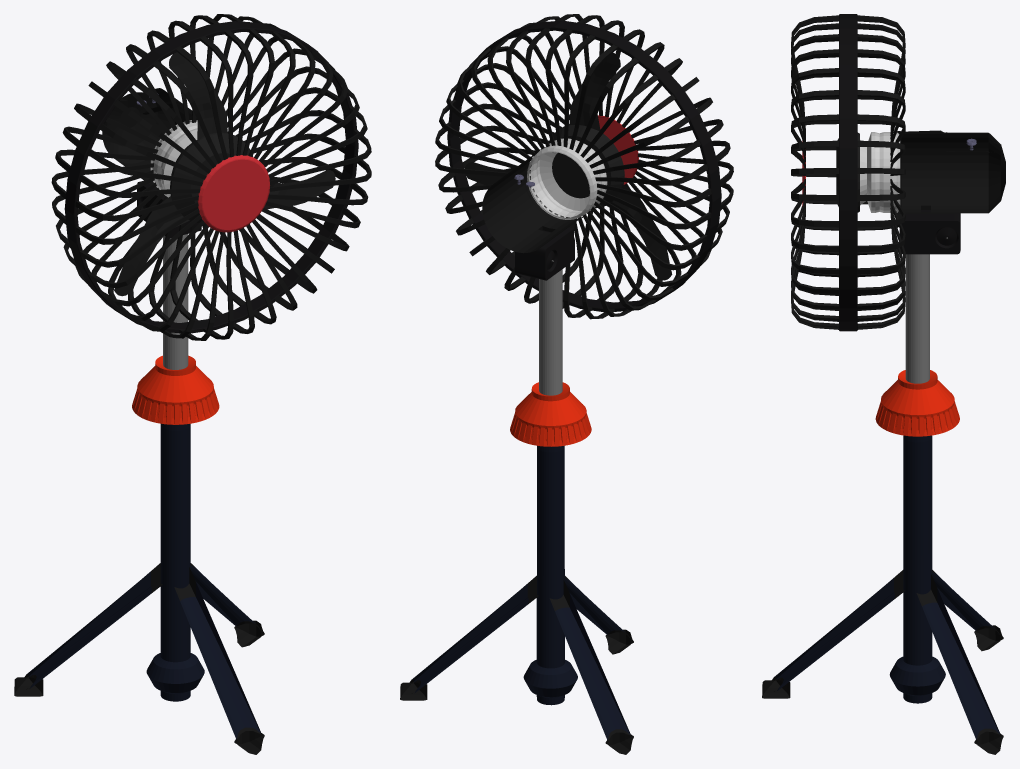
Rendered from fan.obj.
The picture shows the model from 3 angles, left to right: view 1: azimuth 30°, elevation 25°; view 2: azimuth 150°, elevation 25°; view 3: azimuth 270°, elevation 25°; orthographic projection. The views are drawn at different scales.
Visible parts, largest first — view 1: Fan_Model; view 2: Fan_Model; view 3: Fan_Model.
Part boxes in pixels (<box>): Fan_Model: <box>14,14,371,754</box>; Fan_Model: <box>400,14,733,754</box>; Fan_Model: <box>762,14,1005,754</box>.
Size of the model in its own units: 1.67 by 3.88 by 1.28.
